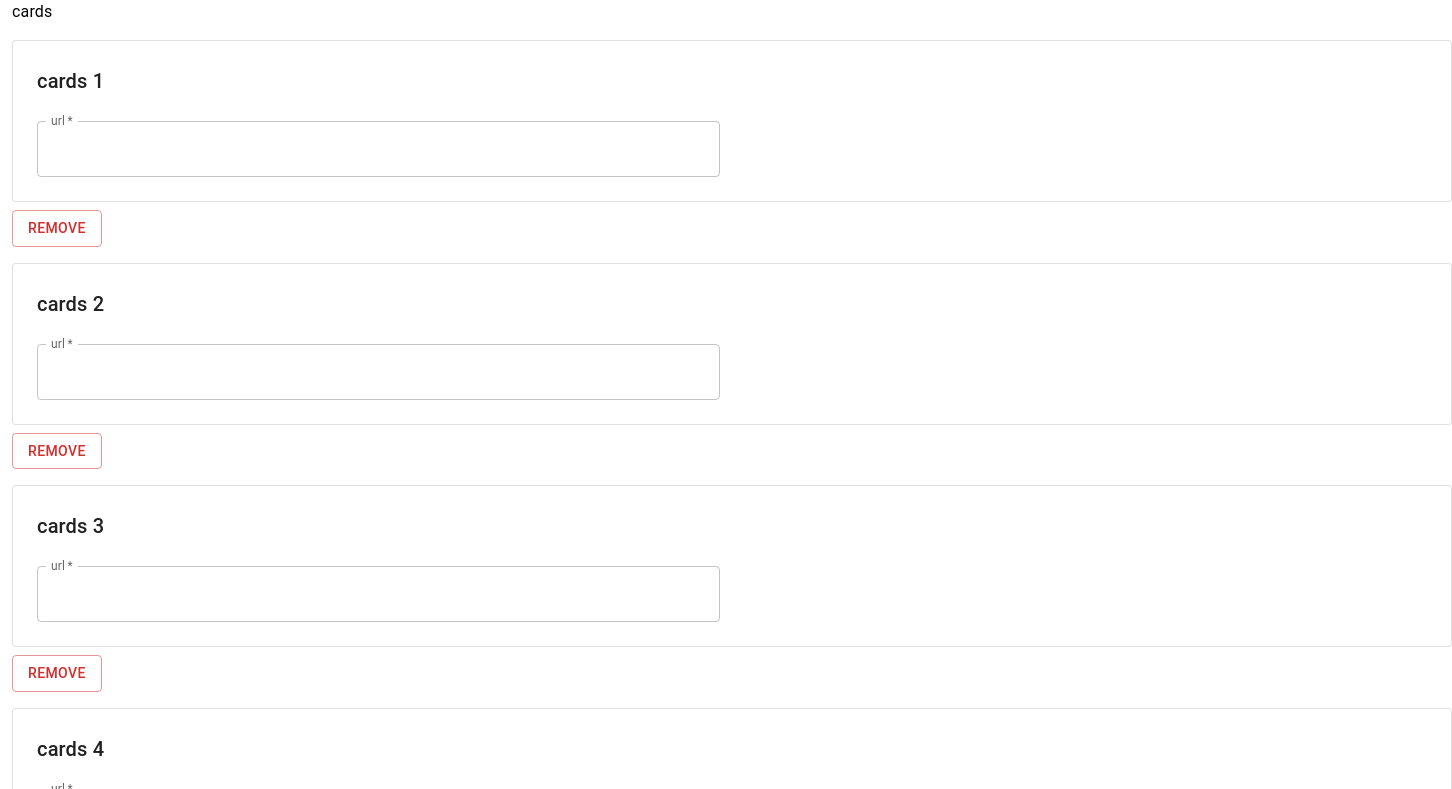
it: adds only unused card types, prevents duplicate type changes, and restores removed types
Earlier steps of the test are not shown.
Later steps or results of the test are not shown.
Click the button "Remove" below "cards 1" at [57, 228], box [12,210,102,246]
(page scrolled)
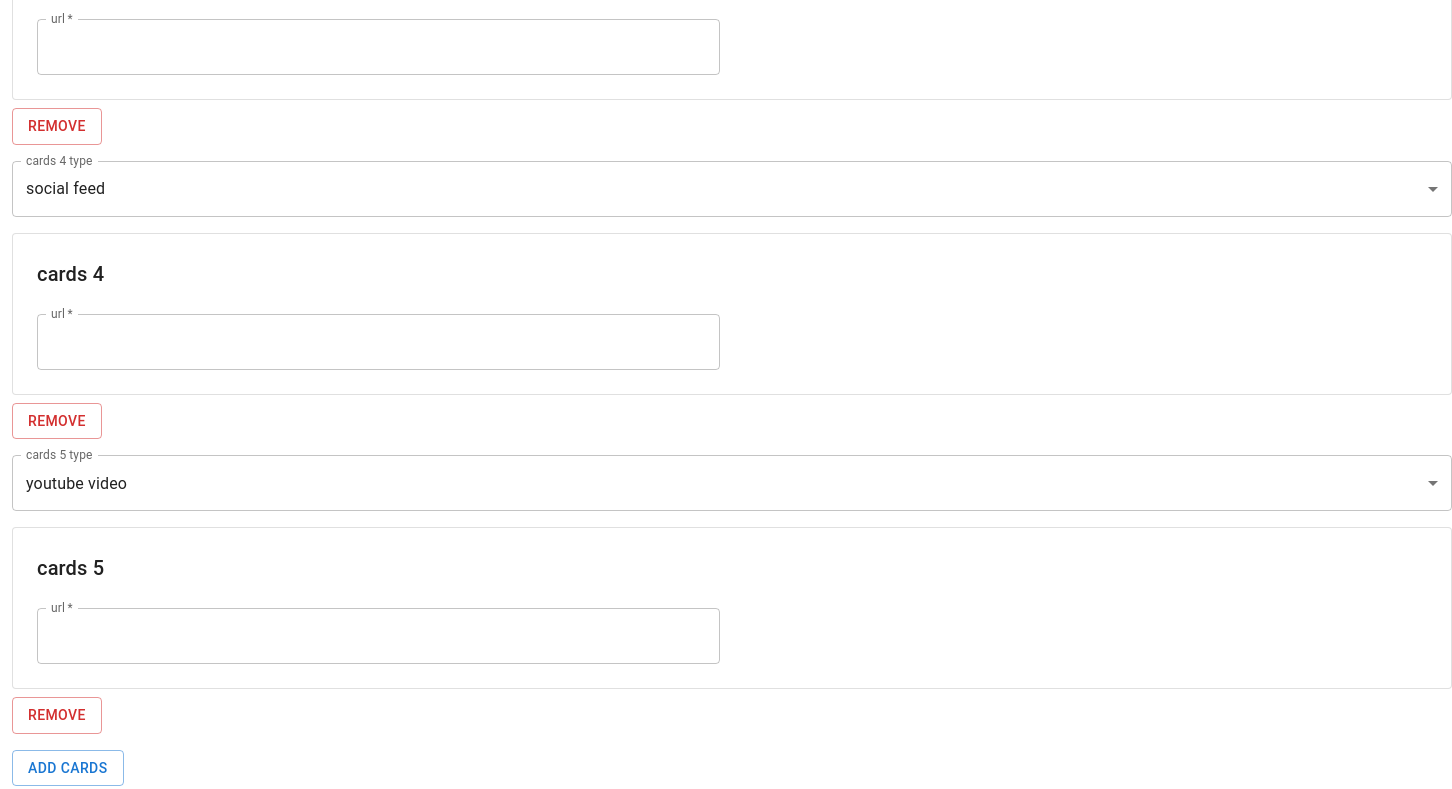
Now the button "Add cards" is enabled, box [12,750,124,786]
